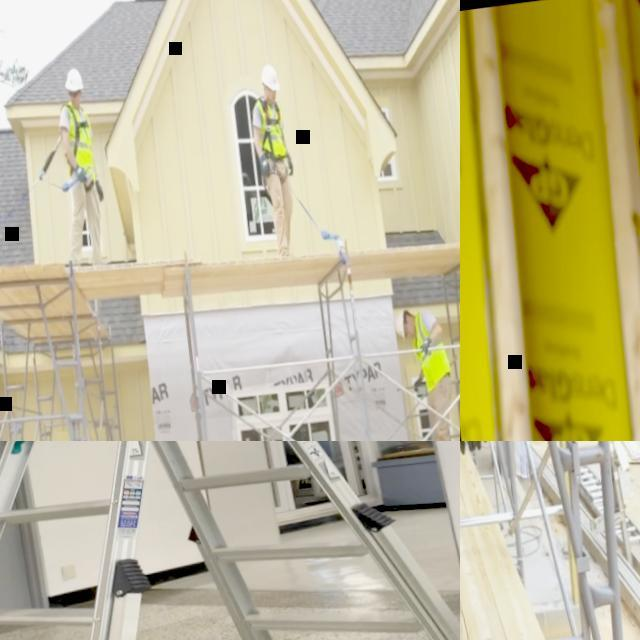helmet: (259, 63, 280, 92), (63, 68, 84, 94), (394, 309, 409, 341)
vest: (408, 306, 454, 392), (59, 99, 96, 183), (254, 96, 286, 159)
